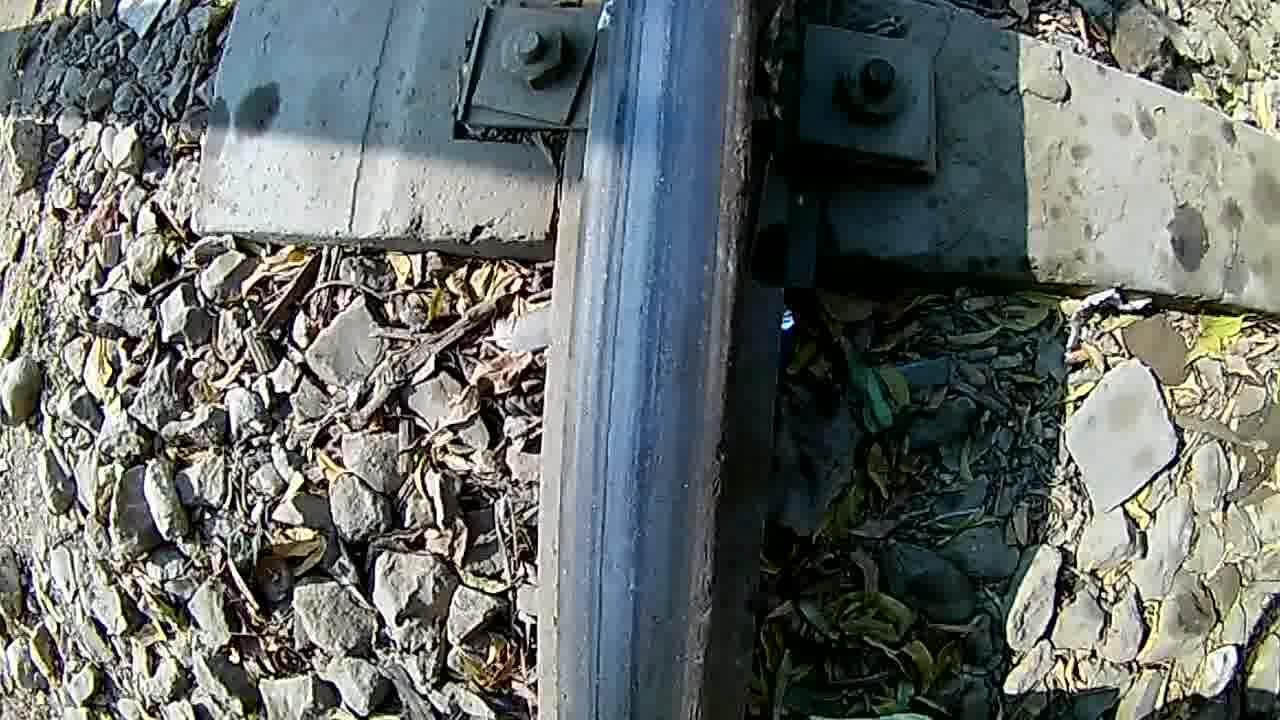crack: (540, 0, 768, 717)
